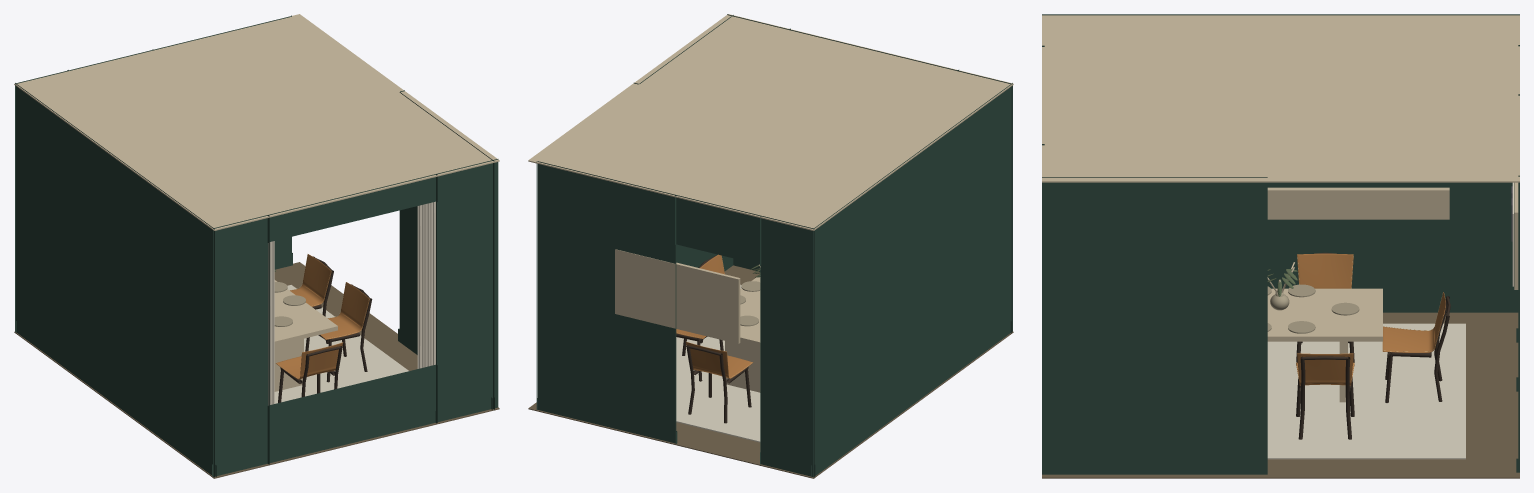
File: dining-3.glb
3 views of the same model, side by side, from view 1: azimuth 30°, elevation 25°; view 2: azimuth 150°, elevation 25°; view 3: azimuth 270°, elevation 25° (orthographic). The views are drawn at different scales.
Visible parts, largest first — view 1: DESIGN | dining removable wall finish, DESIGN | dining ceiling finish, DESIGN | dining floor finish, DESIGN | Dining ground, DESIGN | Dining linen edge.001, DESIGN | Required Isadora dining chair 3, DESIGN | Dining table top, DESIGN | Required Isadora dining chair 5, DESIGN | Required Isadora dining chair 4, DESIGN | Dining linen edge, DESIGN | Dining table trestle; view 2: DESIGN | dining removable wall finish, DESIGN | dining ceiling finish, DESIGN | Quiet artwork frame.001, DESIGN | Dining ground, DESIGN | dining floor finish, DESIGN | Required Isadora dining chair 6, DESIGN | Dining table trestle.001, DESIGN | Dining table top; view 3: DESIGN | dining removable wall finish, DESIGN | dining ceiling finish, DESIGN | Dining ground, DESIGN | dining floor finish, DESIGN | Dining sculptural timber wall band, DESIGN | Dining table top, DESIGN | Required Isadora dining chair 6, DESIGN | Required Isadora dining chair 4, DESIGN | Required Isadora dining chair 2, DESIGN | Quiet artwork frame.001.
Boxes of the visible parts, x1,y1,x2,y2 form: DESIGN | dining removable wall finish: [15, 15, 498, 477]; DESIGN | dining ceiling finish: [14, 14, 499, 230]; DESIGN | dining floor finish: [14, 262, 499, 478]; DESIGN | Dining ground: [274, 285, 408, 403]; DESIGN | Dining linen edge.001: [417, 201, 435, 368]; DESIGN | Required Isadora dining chair 3: [305, 282, 372, 382]; DESIGN | Dining table top: [274, 280, 337, 345]; DESIGN | Required Isadora dining chair 5: [276, 342, 343, 402]; DESIGN | Required Isadora dining chair 4: [290, 254, 333, 343]; DESIGN | Dining linen edge: [268, 241, 274, 405]; DESIGN | Dining table trestle: [274, 338, 303, 391]; DESIGN | dining removable wall finish: [536, 14, 1012, 477]; DESIGN | dining ceiling finish: [528, 14, 1013, 230]; DESIGN | Quiet artwork frame.001: [615, 249, 740, 343]; DESIGN | Dining ground: [676, 284, 760, 442]; DESIGN | dining floor finish: [528, 265, 1013, 478]; DESIGN | Required Isadora dining chair 6: [686, 341, 753, 423]; DESIGN | Dining table trestle.001: [725, 341, 760, 392]; DESIGN | Dining table top: [740, 277, 760, 346]; DESIGN | dining removable wall finish: [1042, 14, 1519, 474]; DESIGN | dining ceiling finish: [1042, 15, 1519, 182]; DESIGN | Dining ground: [1267, 323, 1465, 459]; DESIGN | dining floor finish: [1042, 312, 1519, 478]; DESIGN | Dining sculptural timber wall band: [1267, 187, 1449, 219]; DESIGN | Dining table top: [1267, 288, 1382, 341]; DESIGN | Required Isadora dining chair 6: [1382, 292, 1450, 402]; DESIGN | Required Isadora dining chair 4: [1296, 353, 1354, 439]; DESIGN | Required Isadora dining chair 2: [1296, 252, 1354, 365]; DESIGN | Quiet artwork frame.001: [1514, 182, 1518, 289].
Size of the model in its own units: 3.28 by 2.74 by 3.98.
